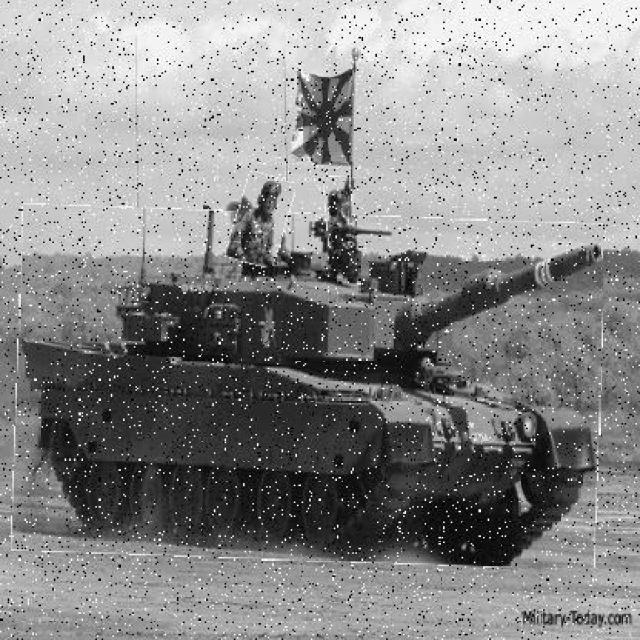Person: (232, 175, 292, 267), (326, 176, 355, 249)
Tank: (15, 210, 604, 566)
